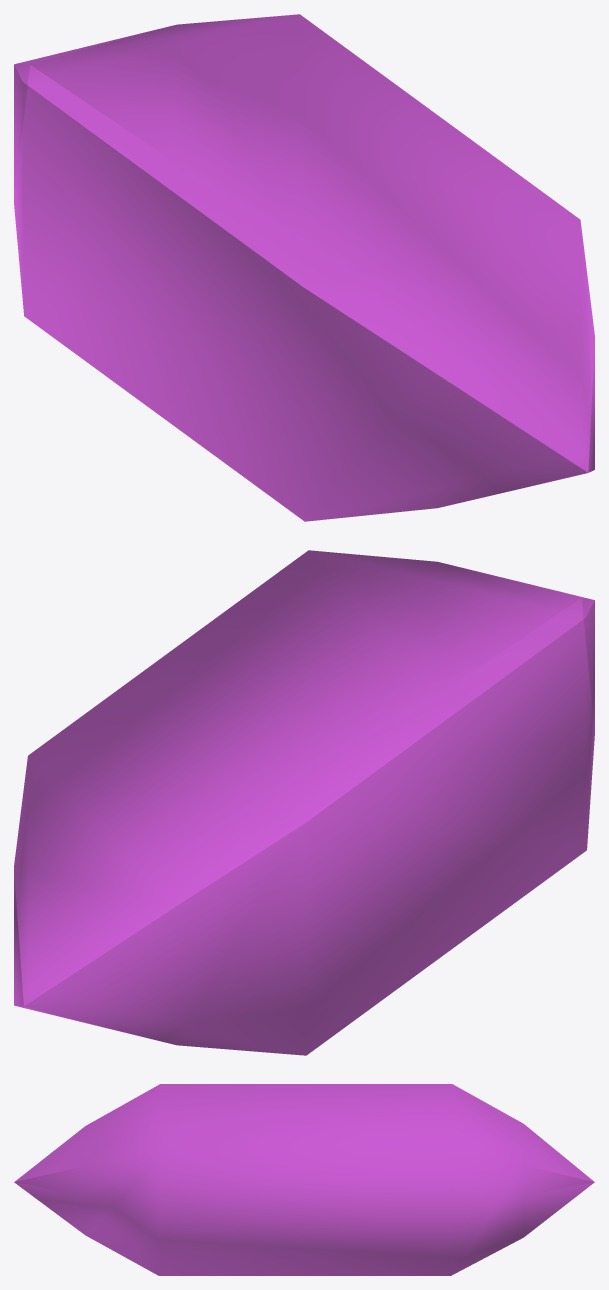
The model's file is purple2Gem.fbx.
The picture shows the model from 3 angles, top to bottom: view 1: azimuth 30°, elevation 25°; view 2: azimuth 150°, elevation 25°; view 3: azimuth 270°, elevation 25°; orthographic projection. The views are drawn at different scales.
Visible parts, largest first — view 1: mesh02; view 2: mesh02; view 3: mesh02.
Part boxes in pixels (x1,y1,x2,y2): mesh02: [14, 14, 594, 521]; mesh02: [14, 550, 594, 1055]; mesh02: [14, 1084, 594, 1275].
Bounding box in the file's own units: 11.34 × 9.13 × 39.56.
